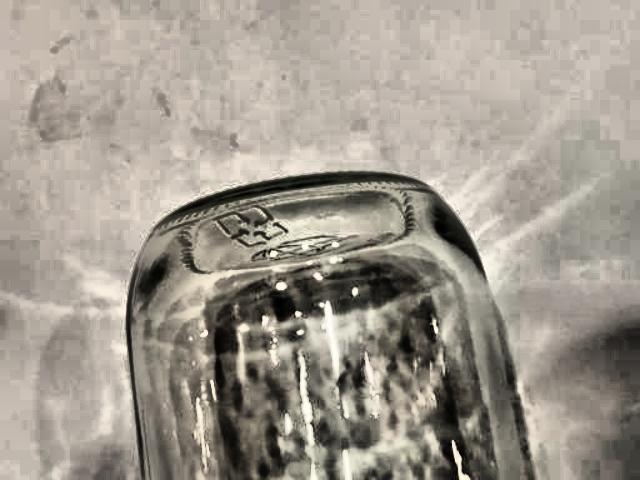Almennt: (113, 132, 544, 480)
